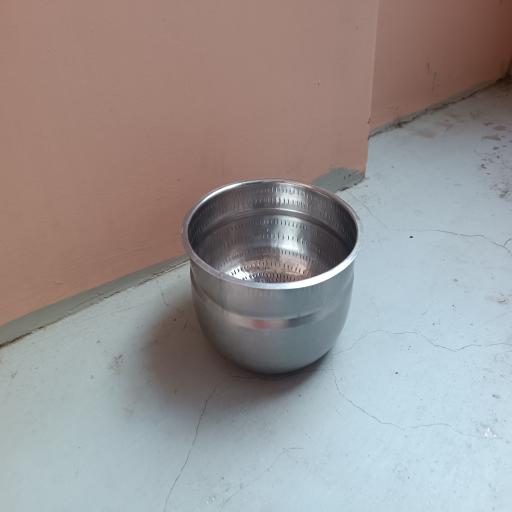vessel: (181, 179, 363, 373)
